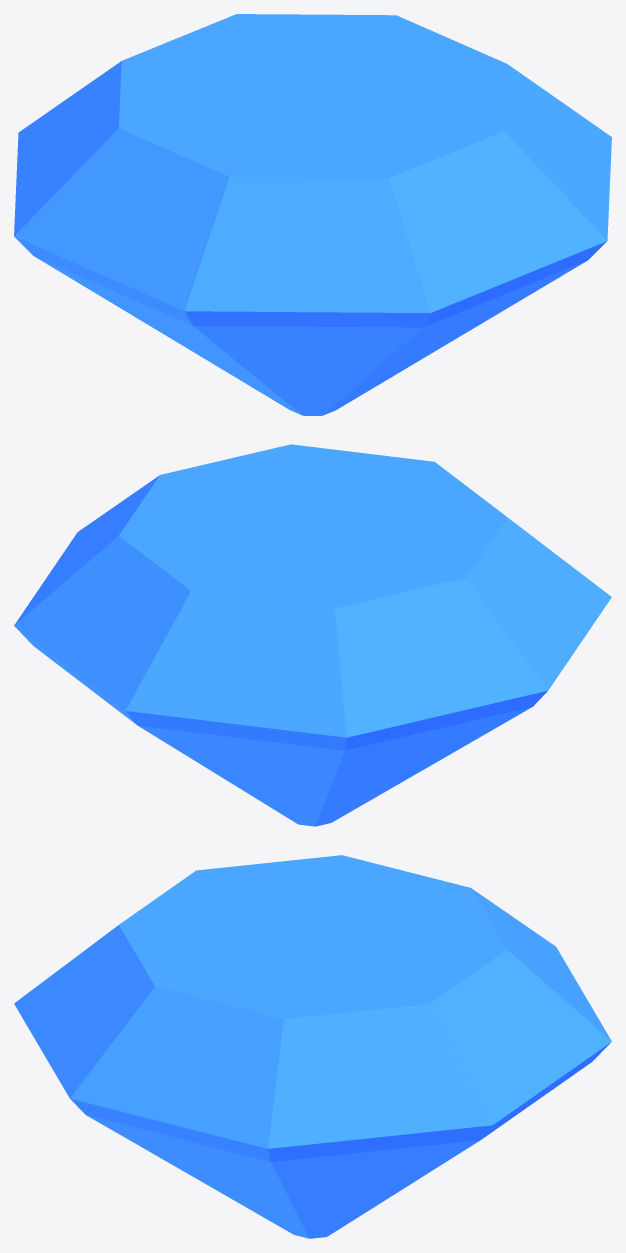
File: Gema.glb
3 renders of one model, top to bottom at view 1: azimuth 30°, elevation 25°; view 2: azimuth 150°, elevation 25°; view 3: azimuth 270°, elevation 25°, orthographic. The views are drawn at different scales.
Parts seen in each view (by area): view 1: Gema; view 2: Gema; view 3: Gema.
Part boxes in pixels (x1=…): Gema: x1=14, y1=14, x2=611, y2=415; Gema: x1=14, y1=444, x2=611, y2=826; Gema: x1=14, y1=855, x2=611, y2=1238.
Bounding box in the file's own units: 0.1904 × 0.1025 × 0.1904.
